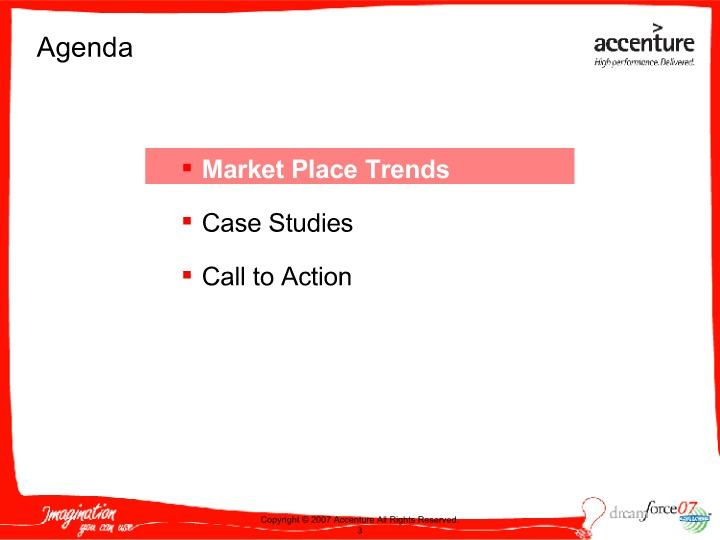subtitle: (175, 148, 450, 187), (175, 255, 364, 298), (174, 205, 373, 243)
title: (35, 27, 148, 64)
